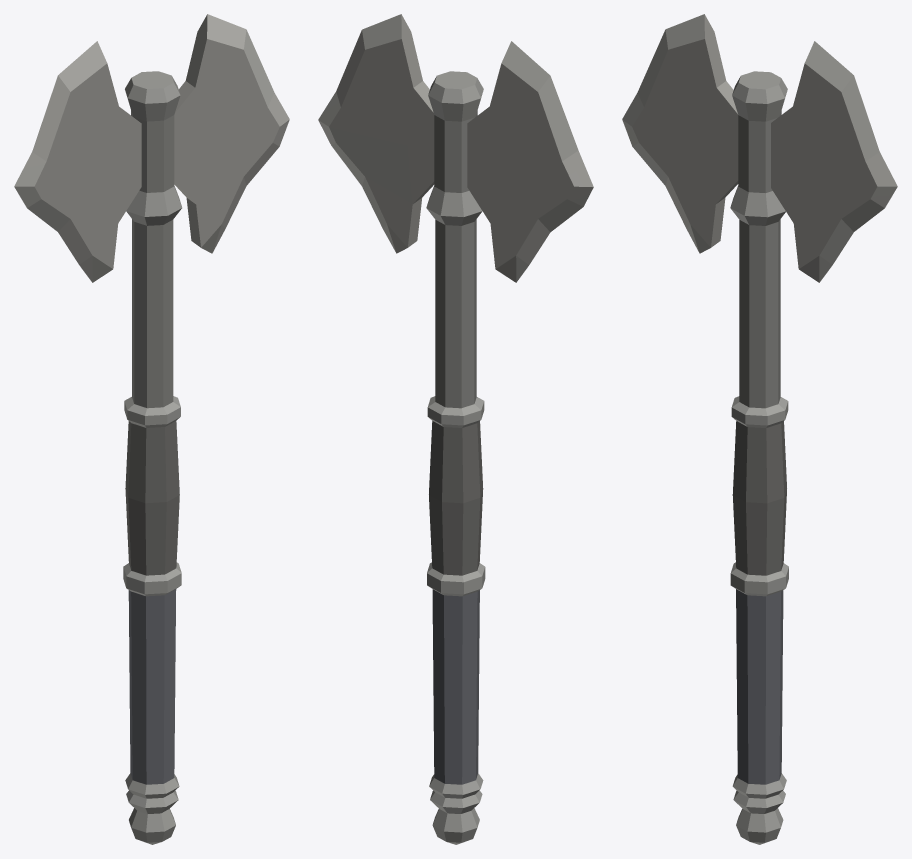
Rendered from SM_pwe_medieval_axe_07.fbx.
3 renders of one model, left to right at view 1: azimuth 30°, elevation 25°; view 2: azimuth 150°, elevation 25°; view 3: azimuth 330°, elevation 25°, orthographic.
Parts seen in each view (by area): view 1: SM_pwe_medieval_axe_07; view 2: SM_pwe_medieval_axe_07; view 3: SM_pwe_medieval_axe_07.
Part boxes in pixels (left/top/right/bottom): SM_pwe_medieval_axe_07: left=14, top=14, right=289, bottom=844; SM_pwe_medieval_axe_07: left=318, top=14, right=593, bottom=844; SM_pwe_medieval_axe_07: left=622, top=14, right=897, bottom=844.
Bounding box in the file's own units: 29.6 × 83.88 × 5.72.
